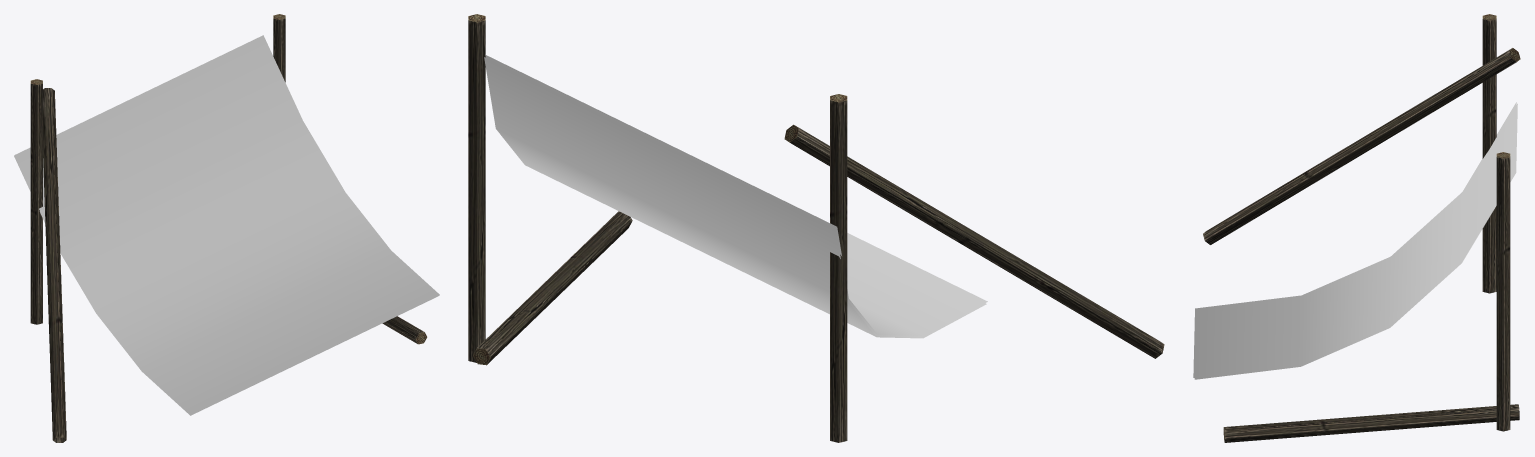
The model's file is Shed01_Build_002.FBX.
The picture shows the model from 3 angles, left to right: view 1: azimuth 30°, elevation 25°; view 2: azimuth 150°, elevation 25°; view 3: azimuth 270°, elevation 25°; orthographic projection. The views are drawn at different scales.
Visible parts, largest first — view 1: Shed01_Build_002; view 2: Shed01_Build_002; view 3: Shed01_Build_002.
Boxes of the visible parts, x1,y1,x2,y2 form: Shed01_Build_002: (14,14,439,442); Shed01_Build_002: (468,14,1164,442); Shed01_Build_002: (1193,14,1520,442).
Size of the model in its own units: 259 by 161 by 170.
